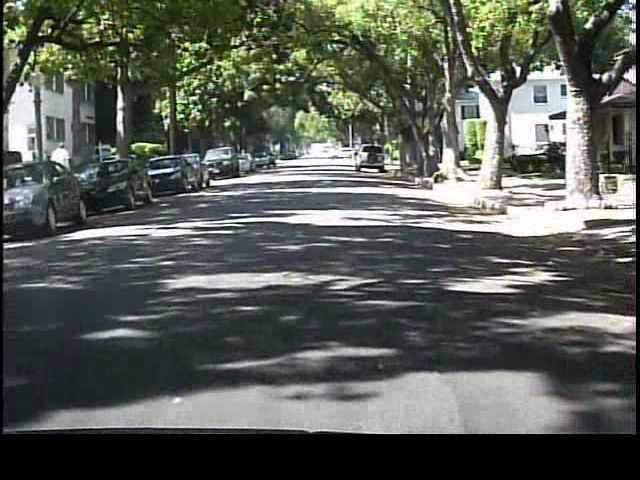person: (49, 139, 77, 201)
